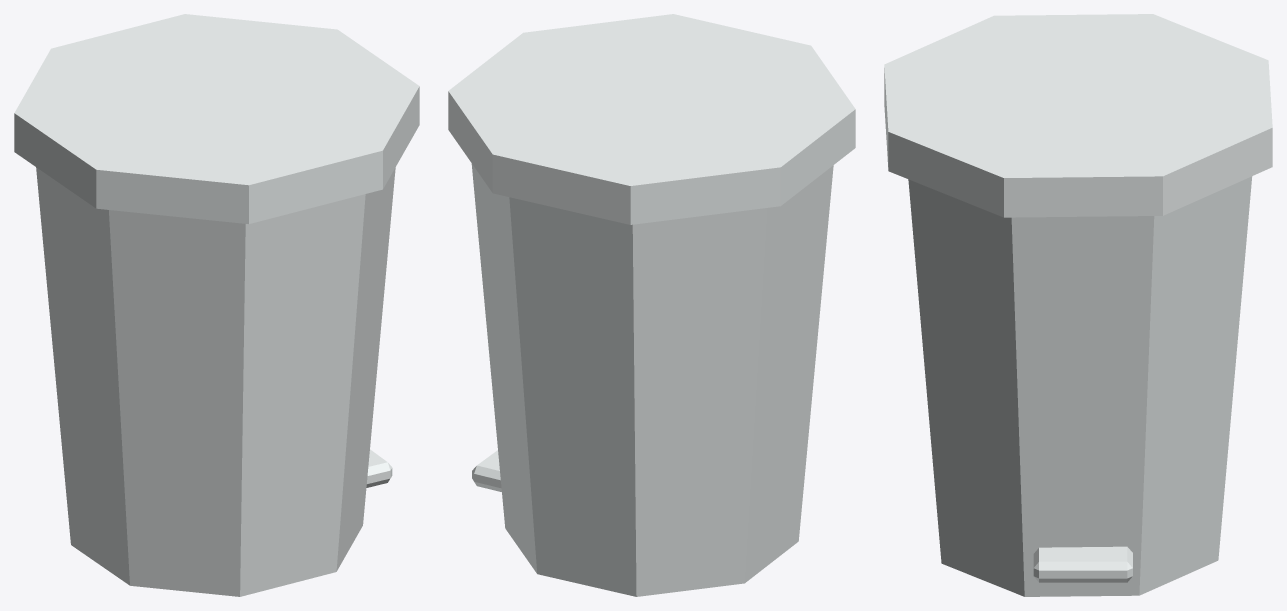
File: caneca blanca .fbx
3 renders of one model, left to right at view 1: azimuth 30°, elevation 25°; view 2: azimuth 150°, elevation 25°; view 3: azimuth 270°, elevation 25°, orthographic.
Parts seen in each view (by area): view 1: Papelera Blanca, Papelera Blanca.001; view 2: Papelera Blanca, Papelera Blanca.001; view 3: Papelera Blanca, Papelera Blanca.001.
Part boxes in pixels (left/top/right/bottom): Papelera Blanca: left=36, top=167, right=395, bottom=596; Papelera Blanca.001: left=14, top=14, right=419, bottom=223; Papelera Blanca: left=471, top=163, right=833, bottom=596; Papelera Blanca.001: left=448, top=14, right=855, bottom=224; Papelera Blanca: left=908, top=176, right=1252, bottom=596; Papelera Blanca.001: left=884, top=14, right=1272, bottom=217.
Bounding box in the file's own units: 27.99 × 35.13 × 27.99.
2 materials, 2 textured.
